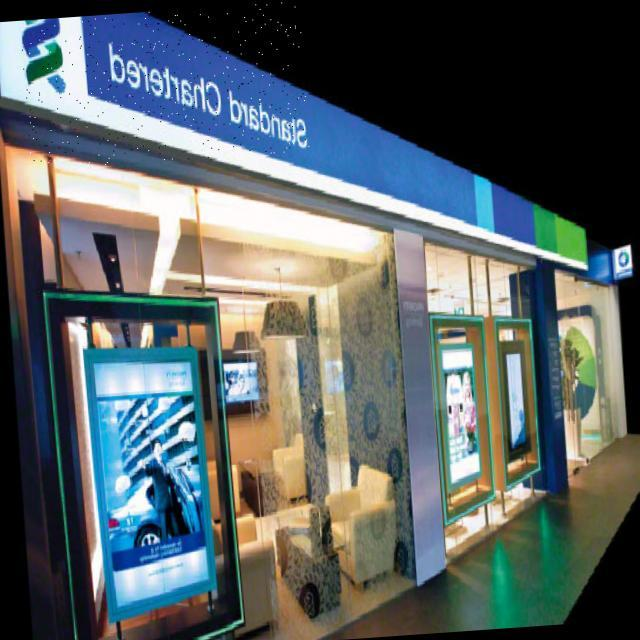Standard Chartered: (19, 1, 310, 170)
